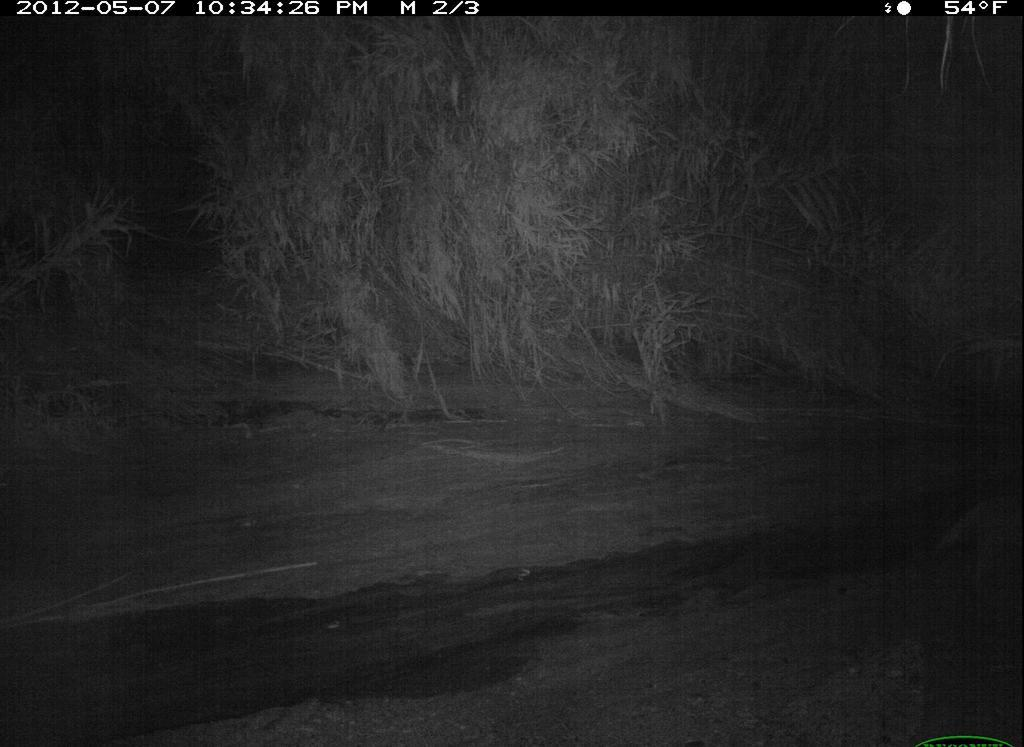bobcat: (927, 481, 1023, 587)
